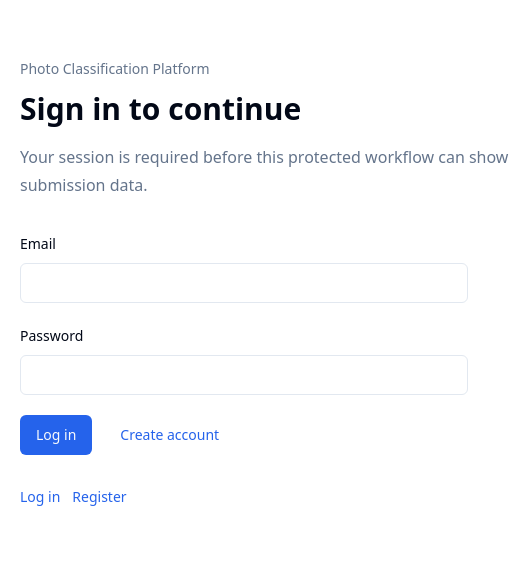
auth form accessibility › announces generic login errors
Type "user@example.com" into the field labelled "Email" at point(244, 283), box top-left (20, 263), bottom-right (468, 303)
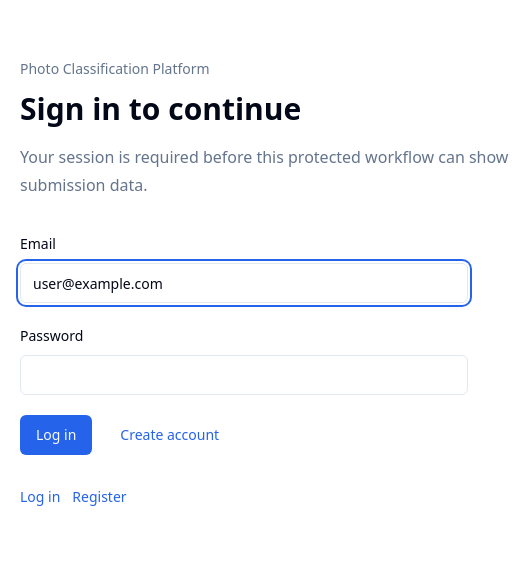
Type "wrong" into the password field labelled "Password" at point(244, 375), box top-left (20, 355), bottom-right (468, 395)
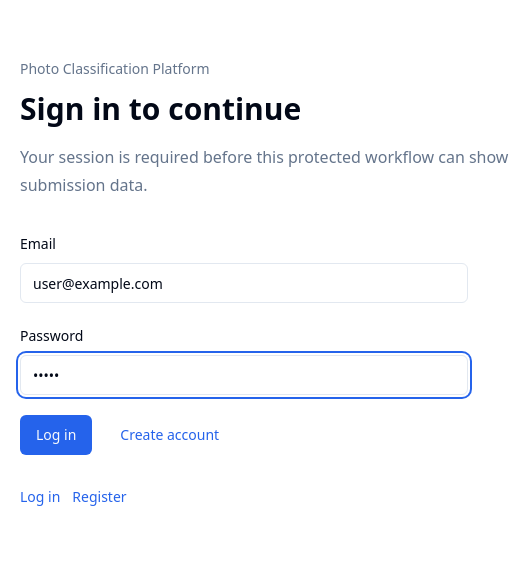
Click the button "Log in" at point(56, 435), box top-left (20, 415), bottom-right (92, 455)
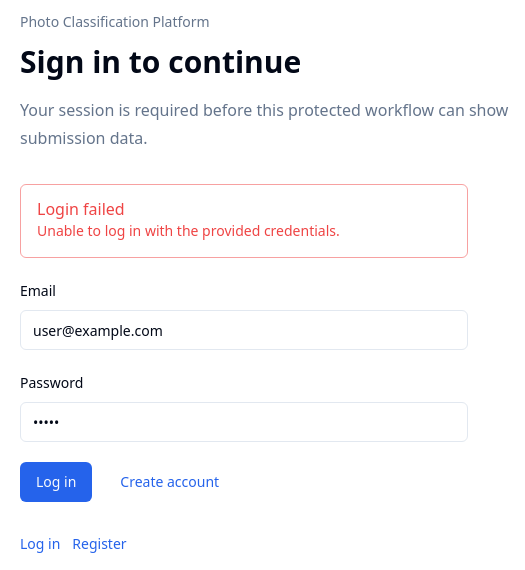
Expected: the text "Wrong password" is not shown
Result: the message shows "Unable to log in with the provided credentials." at top-left (37, 221), bottom-right (340, 240)
